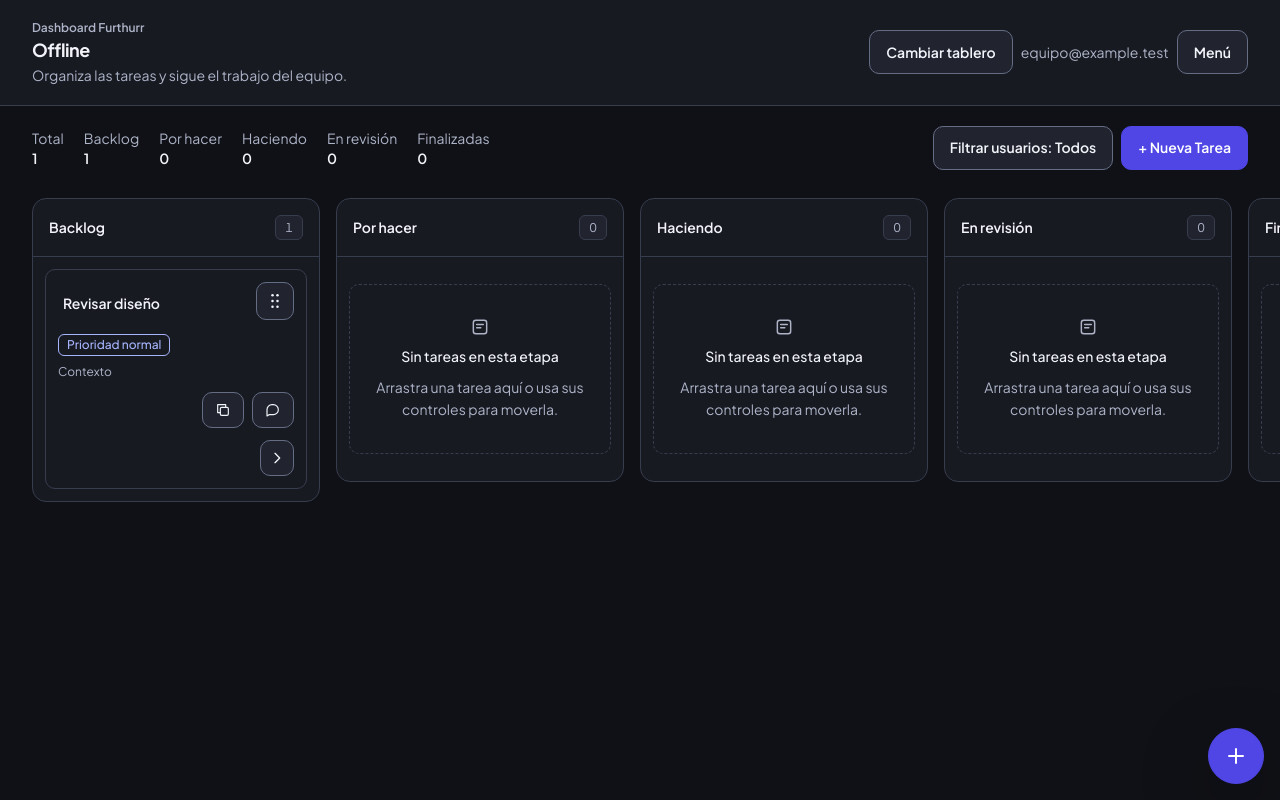
Scenario: Integración del tablero › abre directamente la pestaña Comentarios desde el icono de la tarjeta
Click the button named "Ver comentarios de Revisar diseño (0 comentarios)" at (273, 410), box [252,392,294,428]
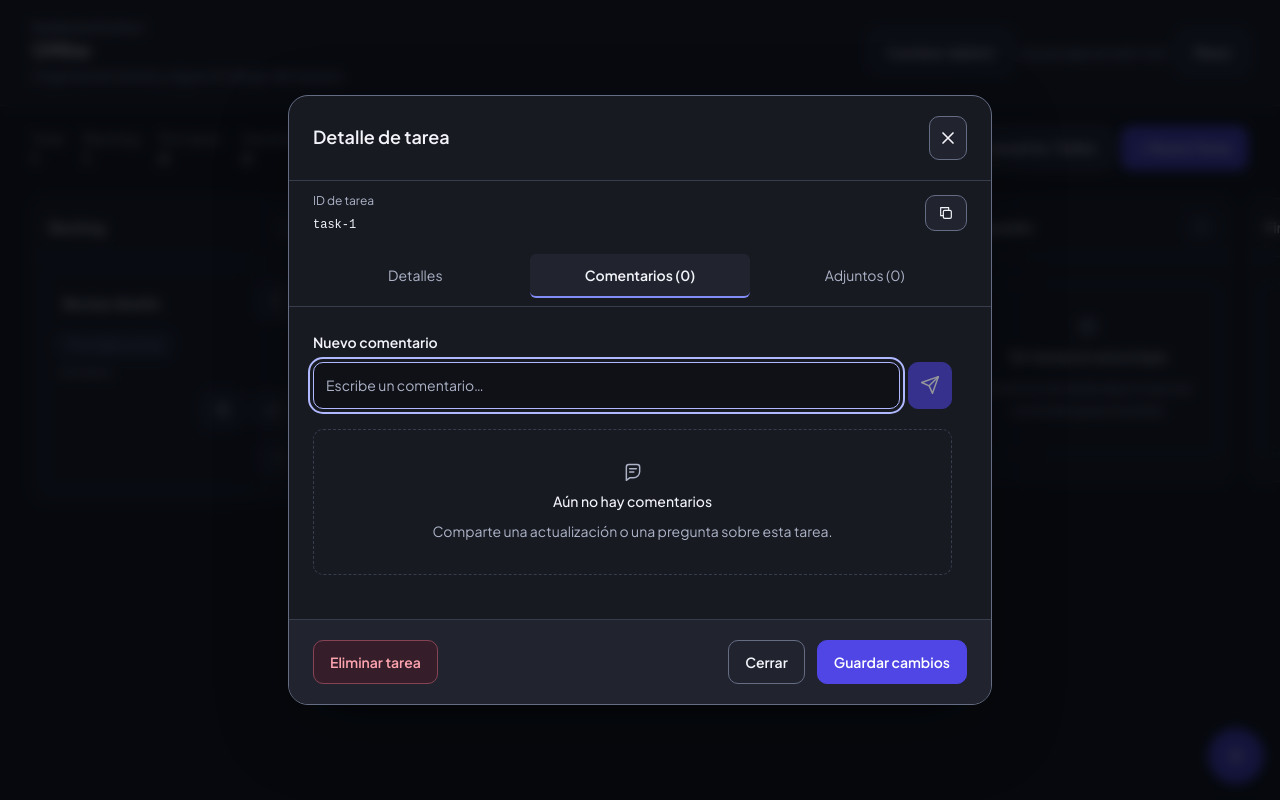
expect the field labelled "Nuevo comentario" is shown: met, box [313,362,900,409]
